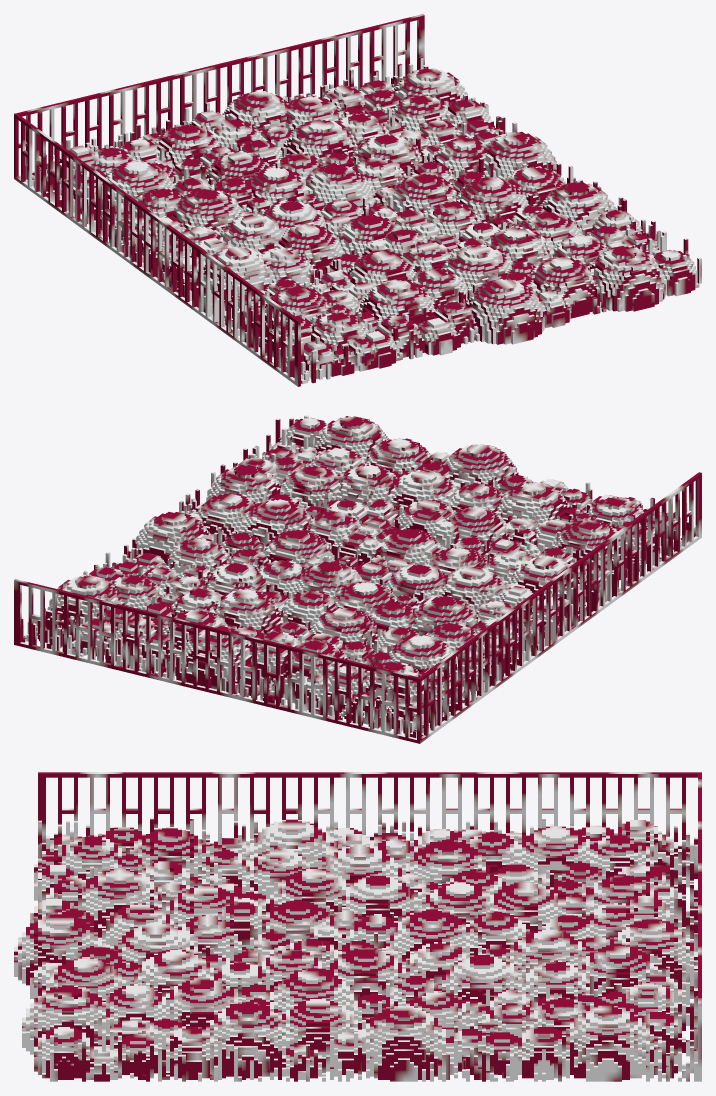
Rendered from Jardin_1.fbx.
3 renders of one model, top to bottom at view 1: azimuth 30°, elevation 25°; view 2: azimuth 150°, elevation 25°; view 3: azimuth 270°, elevation 25°, orthographic. The views are drawn at different scales.
Parts seen in each view (by area): view 1: Untitled.005; view 2: Untitled.005; view 3: Untitled.005.
Part boxes in pixels (<box>): Untitled.005: <box>14,14,701,386</box>; Untitled.005: <box>14,415,701,743</box>; Untitled.005: <box>14,772,701,1081</box>.
Size of the model in its own units: 13.8 by 2.1 by 17.2.
